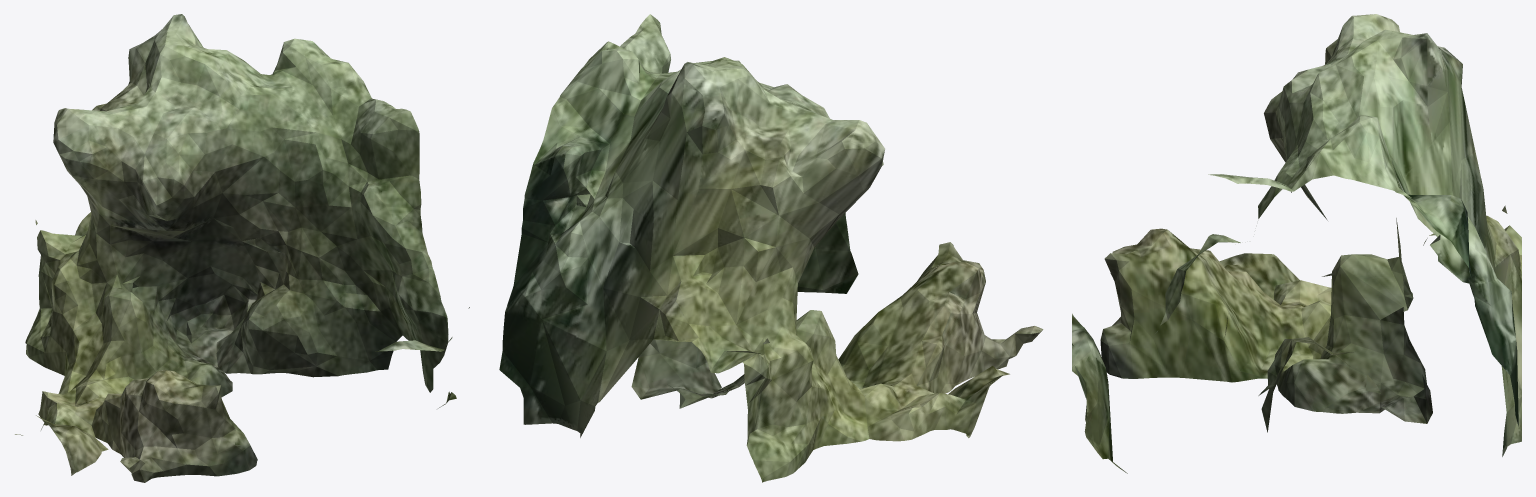
The picture shows the model from 3 angles, left to right: view 1: azimuth 30°, elevation 25°; view 2: azimuth 150°, elevation 25°; view 3: azimuth 270°, elevation 25°; orthographic projection. The views are drawn at different scales.
Size of the model in its own units: 5.9 by 5.41 by 5.9.
Materials: 5 (5 with a texture image).
